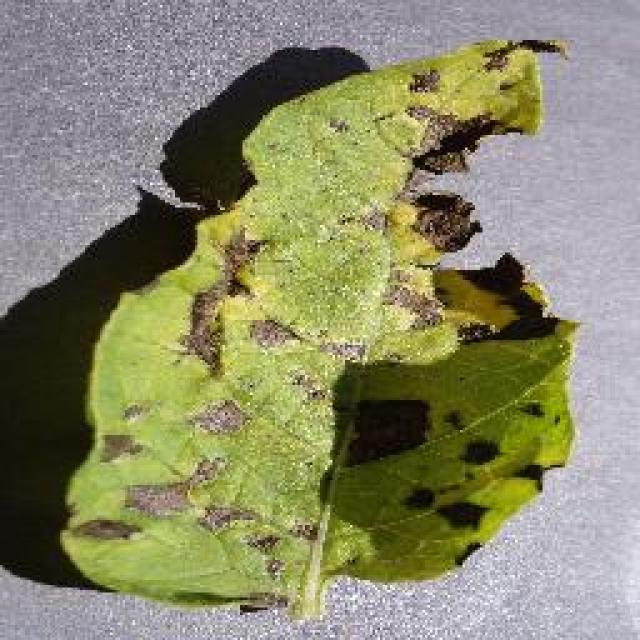early_blight: (52, 32, 582, 620)
